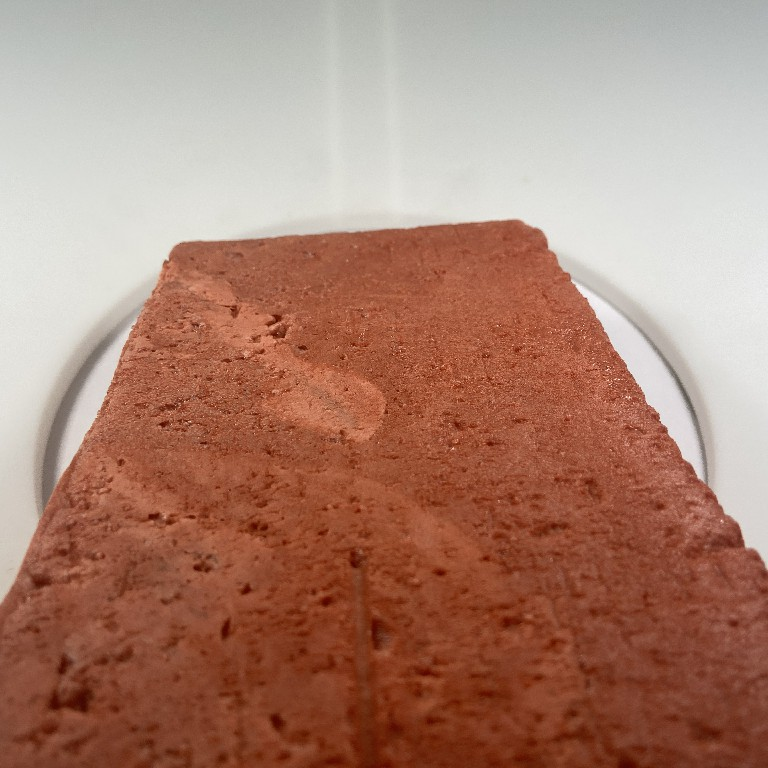brick: (1, 215, 768, 768)
